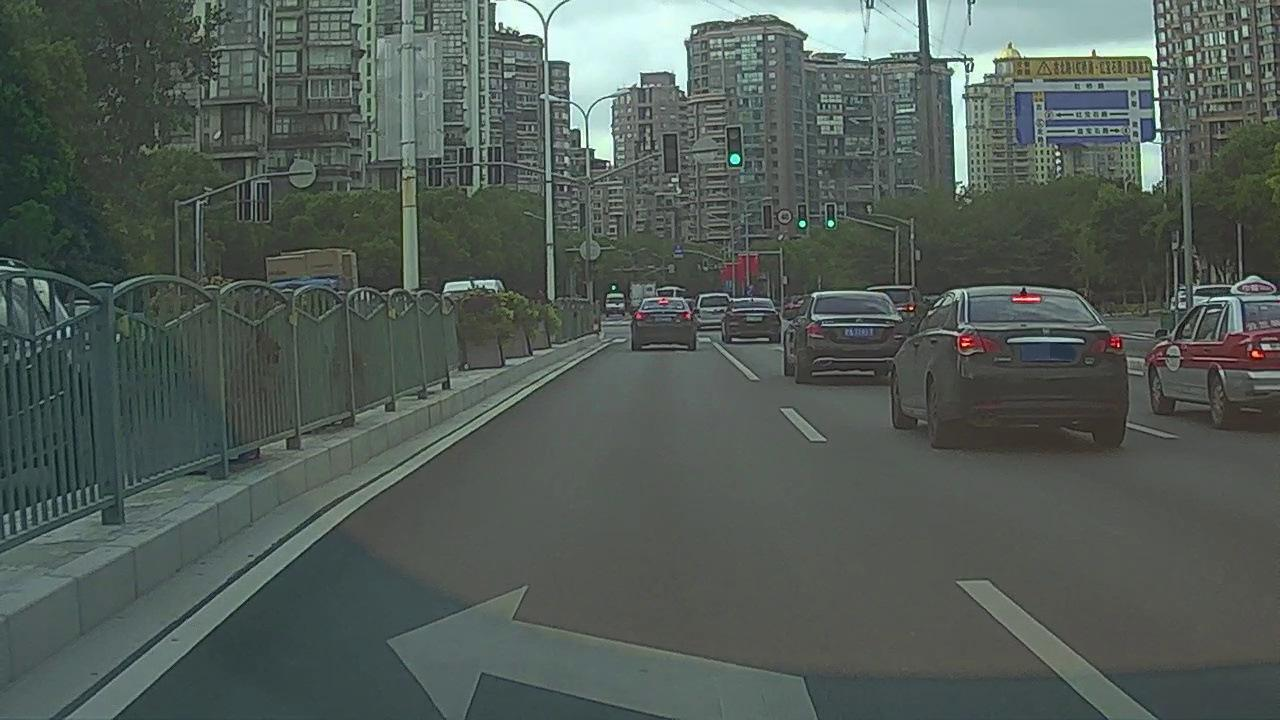traffic_light: (724, 125, 743, 167), (661, 134, 680, 173), (825, 202, 836, 230), (798, 204, 808, 230), (763, 205, 771, 229)
